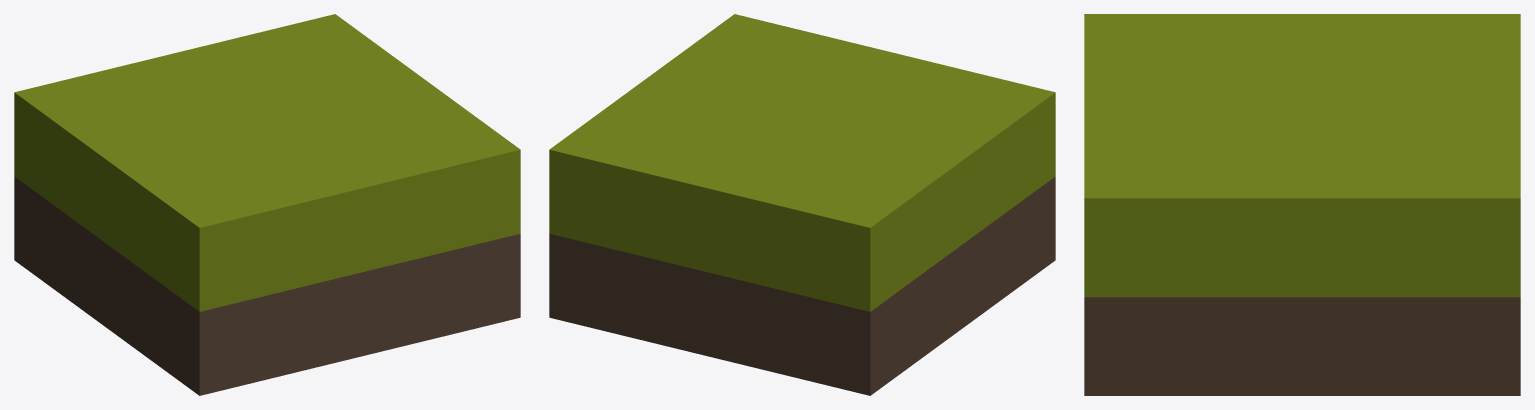
Rendered from grass.dae.
The picture shows the model from 3 angles, left to right: view 1: azimuth 30°, elevation 25°; view 2: azimuth 150°, elevation 25°; view 3: azimuth 270°, elevation 25°; orthographic projection. The views are drawn at different scales.
Parts seen in each view (by area): view 1: Cube; view 2: Cube; view 3: Cube.
Part boxes in pixels (left/top/right/bottom): Cube: left=14, top=14, right=520, bottom=395; Cube: left=549, top=14, right=1055, bottom=395; Cube: left=1084, top=14, right=1520, bottom=395.
Bounding box in the file's own units: 500 × 250 × 500.
